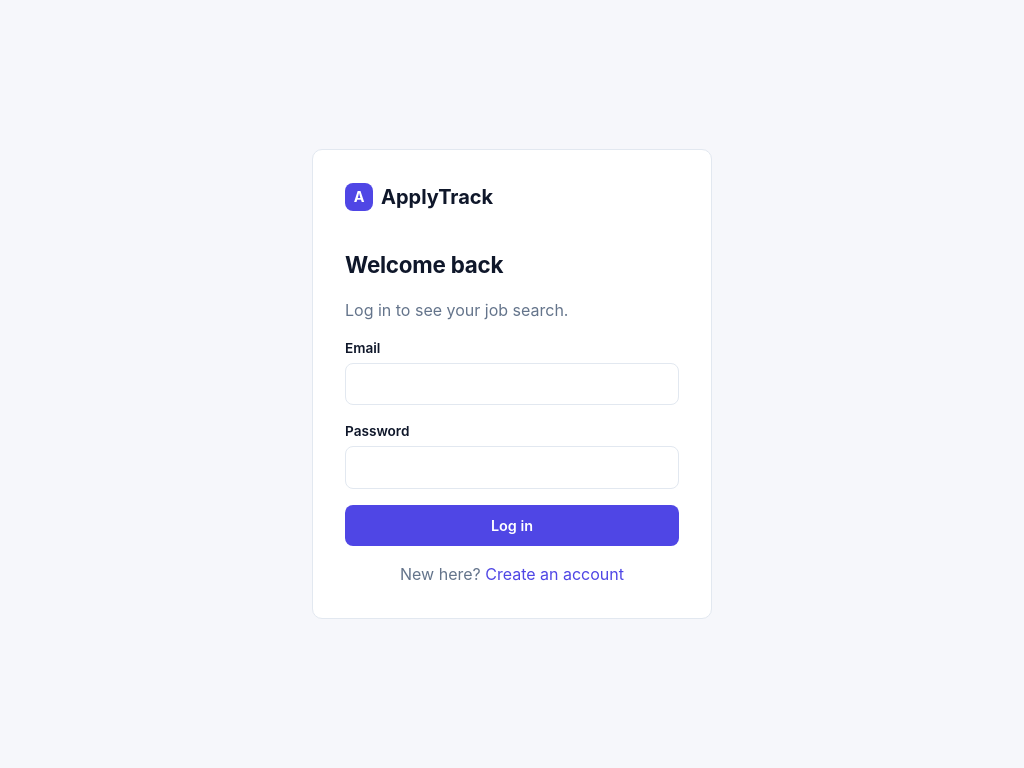
Test: authentication › logs in, stores the token and shows the dashboard
Type "ram@example.com" into the field labelled "Email" at point(512, 384), box [345,363,679,405]
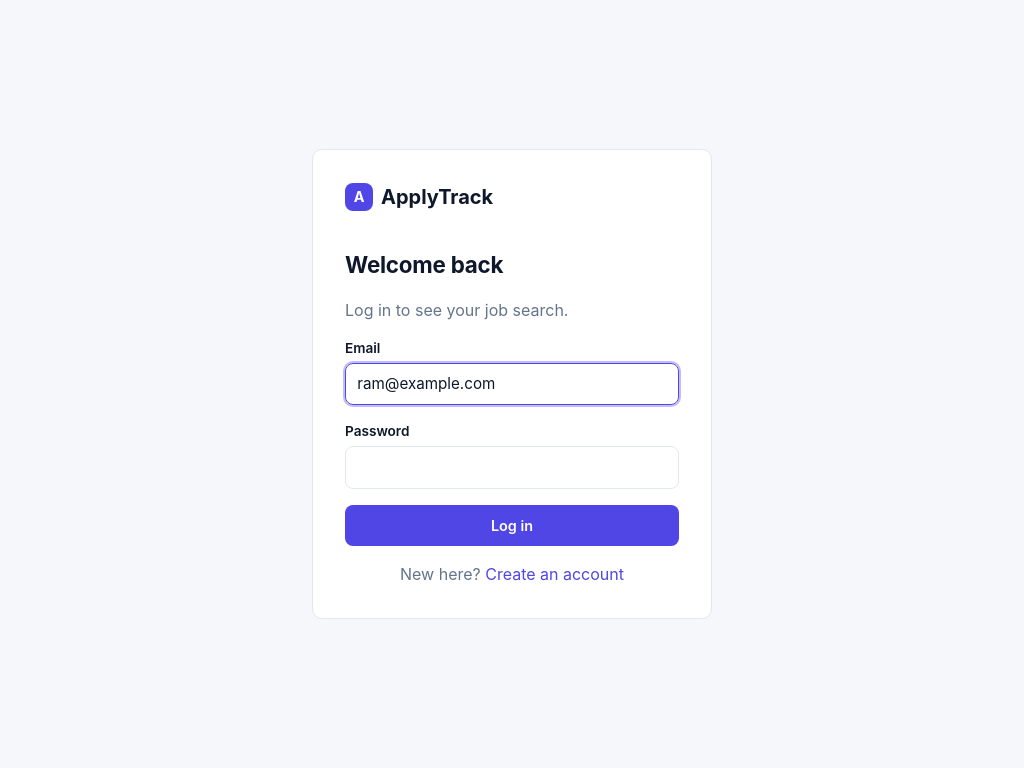
Type "password123" into the password field labelled "Password" at point(512, 468), box [345,446,679,489]
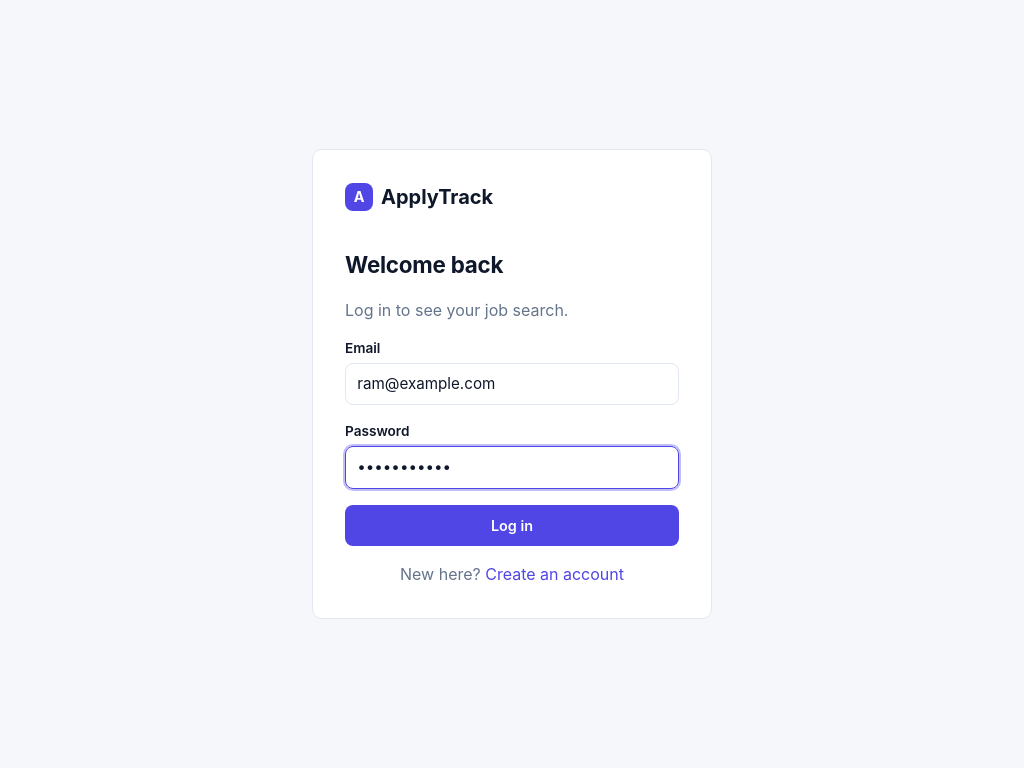
Click the button "Log in" at point(512, 525), box [345,505,679,546]
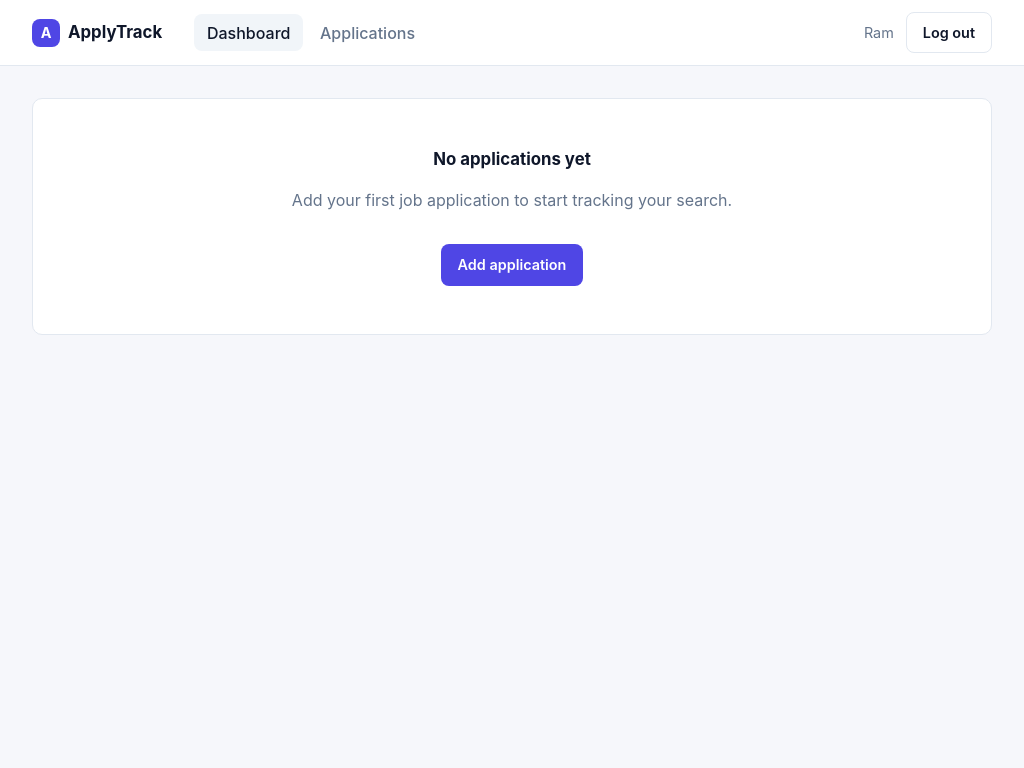
Now the heading "No applications yet" is shown, box [433,149,591,169]
